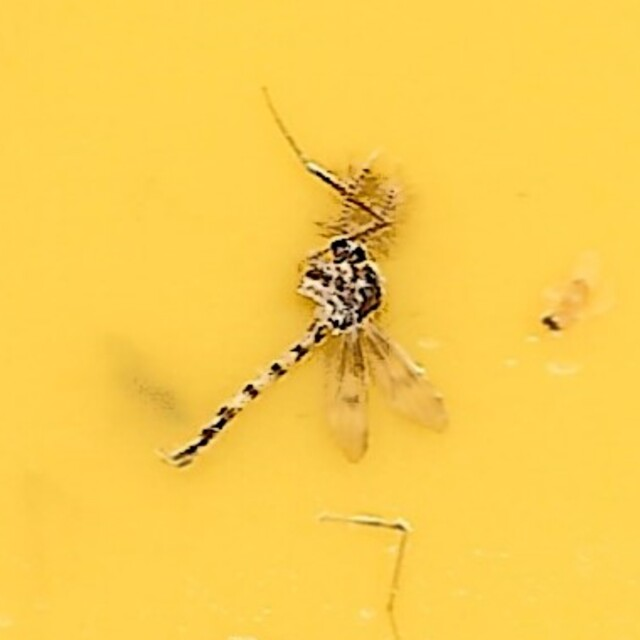Nematocera: (168, 166, 472, 474)
